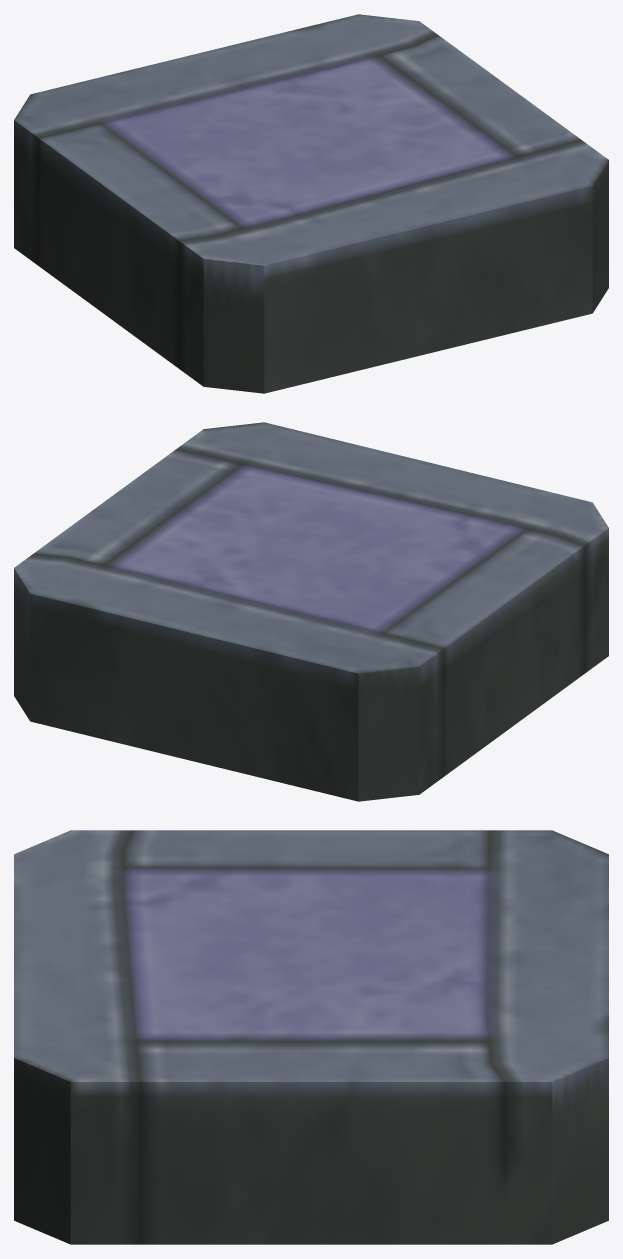
File: GHmG_4_02.FBX
3 views of the same model, one above another, from view 1: azimuth 30°, elevation 25°; view 2: azimuth 150°, elevation 25°; view 3: azimuth 270°, elevation 25° (orthographic). The views are drawn at different scales.
Parts seen in each view (by area): view 1: Box673; view 2: Box673; view 3: Box673.
Boxes of the visible parts, bbox=[...] form: Box673: bbox=[14, 14, 608, 393]; Box673: bbox=[14, 422, 608, 801]; Box673: bbox=[14, 830, 608, 1244].
Bounding box in the file's own units: 0.8816 × 0.2659 × 0.8816.
